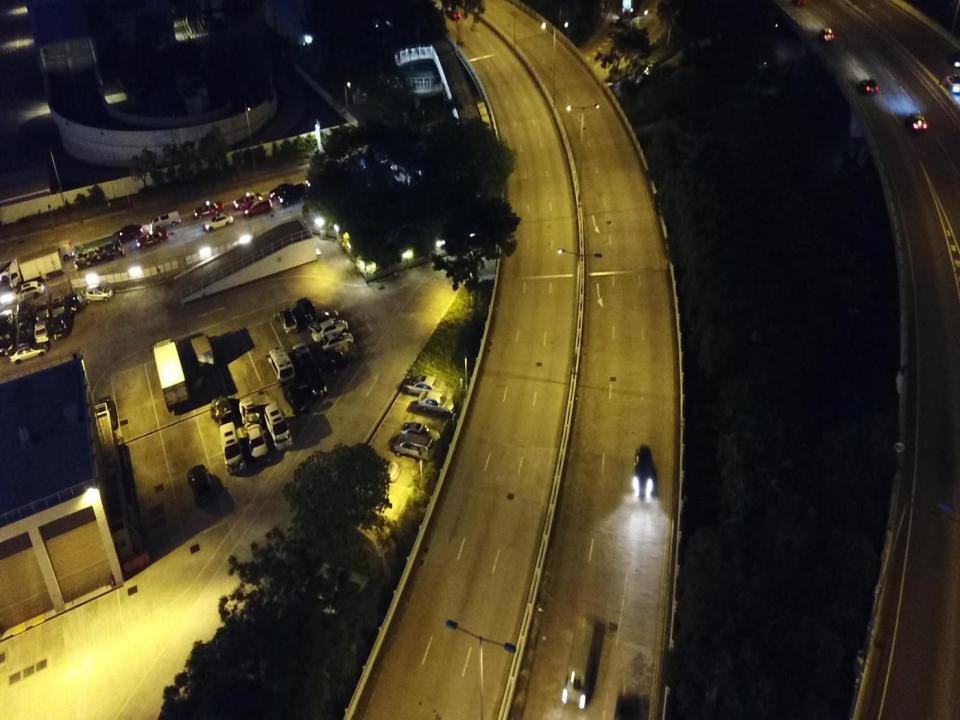bus: (73, 234, 123, 271)
car: (355, 454, 401, 483), (631, 443, 655, 496), (186, 463, 214, 506), (404, 373, 446, 398), (418, 390, 456, 417), (246, 424, 270, 466), (400, 422, 440, 445), (283, 382, 310, 416), (10, 342, 48, 364), (97, 395, 119, 433), (311, 320, 348, 342), (318, 330, 354, 352), (317, 350, 350, 374), (10, 280, 44, 302), (211, 397, 235, 424), (136, 230, 168, 250), (238, 398, 260, 427), (293, 342, 315, 370), (243, 195, 272, 216), (202, 212, 233, 231), (0, 262, 29, 282), (232, 192, 262, 211), (277, 307, 298, 334), (309, 310, 338, 329), (194, 200, 224, 218), (112, 225, 142, 243), (85, 285, 113, 304), (297, 297, 317, 321), (50, 313, 67, 341), (906, 110, 927, 132), (940, 47, 960, 68), (268, 184, 294, 200), (35, 296, 51, 321), (34, 318, 50, 343), (50, 293, 65, 318), (17, 322, 34, 344), (66, 292, 82, 314), (860, 78, 880, 95), (945, 74, 960, 93), (819, 27, 834, 42), (306, 176, 326, 187), (444, 7, 460, 20)
truck: (151, 338, 190, 413), (8, 245, 63, 288), (189, 336, 215, 376)
van: (560, 619, 602, 706), (219, 421, 246, 475), (264, 402, 292, 450), (394, 434, 434, 462), (30, 238, 75, 262), (302, 359, 328, 398), (268, 346, 295, 383), (0, 308, 16, 356), (149, 209, 180, 231), (279, 182, 305, 204), (15, 300, 34, 324)
